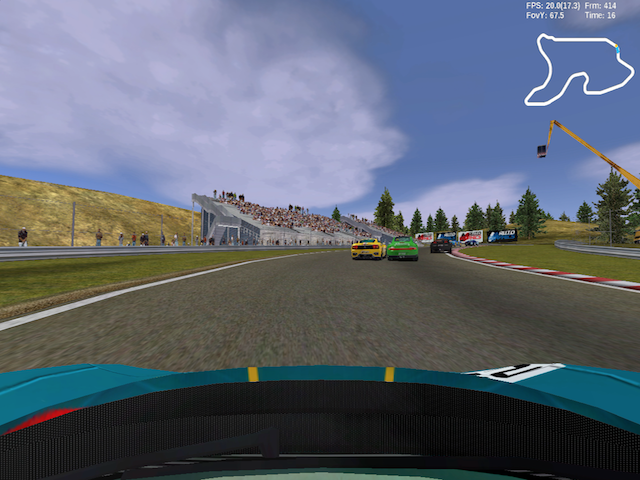Boxer96: (387, 236, 419, 261)
Cavallo360: (350, 237, 386, 260)
FMC_GT4: (465, 240, 480, 247)
Spirit300: (429, 239, 453, 254)
